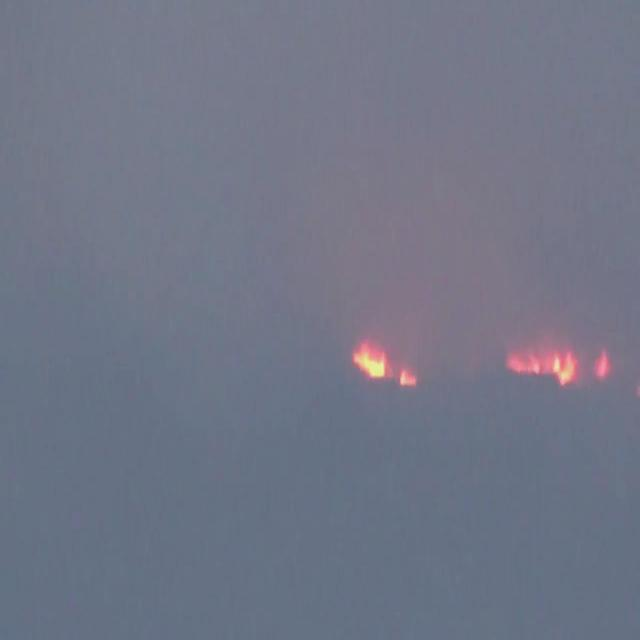Fire: (502, 343, 576, 390), (353, 344, 418, 390), (593, 346, 609, 378)
